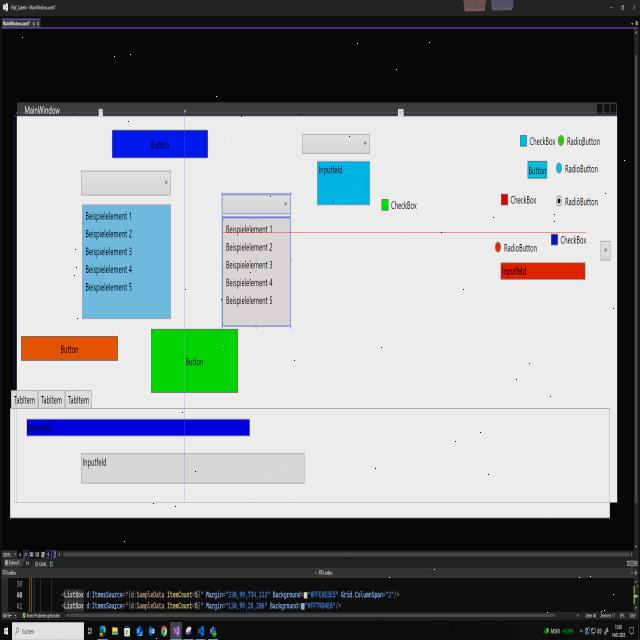button: (150, 326, 240, 396), (111, 125, 210, 162), (19, 332, 120, 364), (526, 157, 550, 181)
checkbox: (500, 192, 509, 208), (380, 198, 390, 212), (550, 232, 559, 247), (520, 134, 528, 148)
dropdownMenu: (80, 168, 172, 322), (221, 191, 292, 329), (301, 131, 371, 155), (600, 239, 611, 262)
input: (80, 449, 307, 486), (26, 415, 252, 439), (316, 158, 371, 206), (499, 260, 586, 282)
label: (565, 163, 599, 175), (564, 196, 598, 208), (504, 242, 538, 254), (566, 136, 600, 147), (560, 233, 588, 245), (391, 199, 418, 211), (510, 194, 537, 206), (529, 136, 556, 147)
menuItem: (85, 280, 133, 295), (225, 276, 274, 289), (85, 262, 133, 275), (85, 245, 133, 258), (84, 210, 132, 223), (226, 294, 274, 307), (85, 228, 134, 240), (225, 241, 273, 253), (226, 223, 274, 235), (226, 258, 273, 270)
radio: (494, 240, 502, 253), (558, 134, 564, 147), (556, 161, 562, 174), (556, 194, 562, 207)
tabControl: (64, 387, 93, 412), (36, 387, 67, 410), (10, 388, 40, 411)
